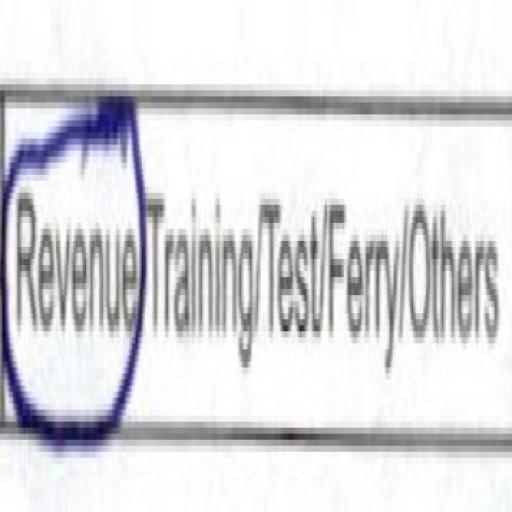check: (3, 52, 153, 492)
